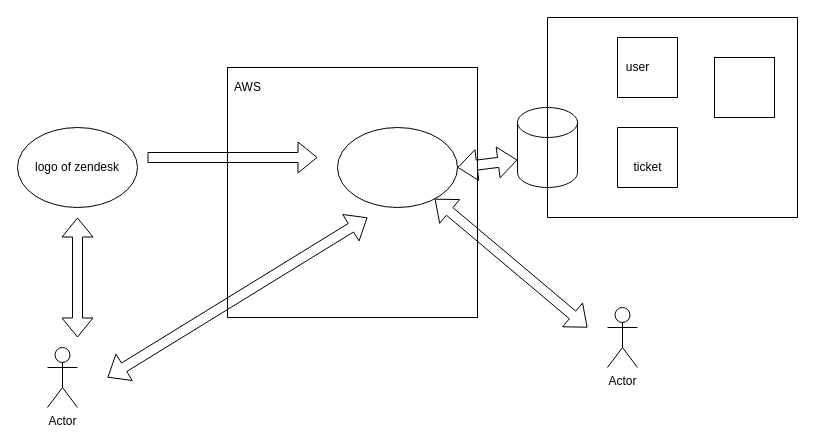
This 815x446 diagram has some shape labels left out. Here are the shapes that lost their labels. From the top down, the box of each, then its label:
(714, 56, 774, 118): ticket status
(336, 126, 458, 208): my application
